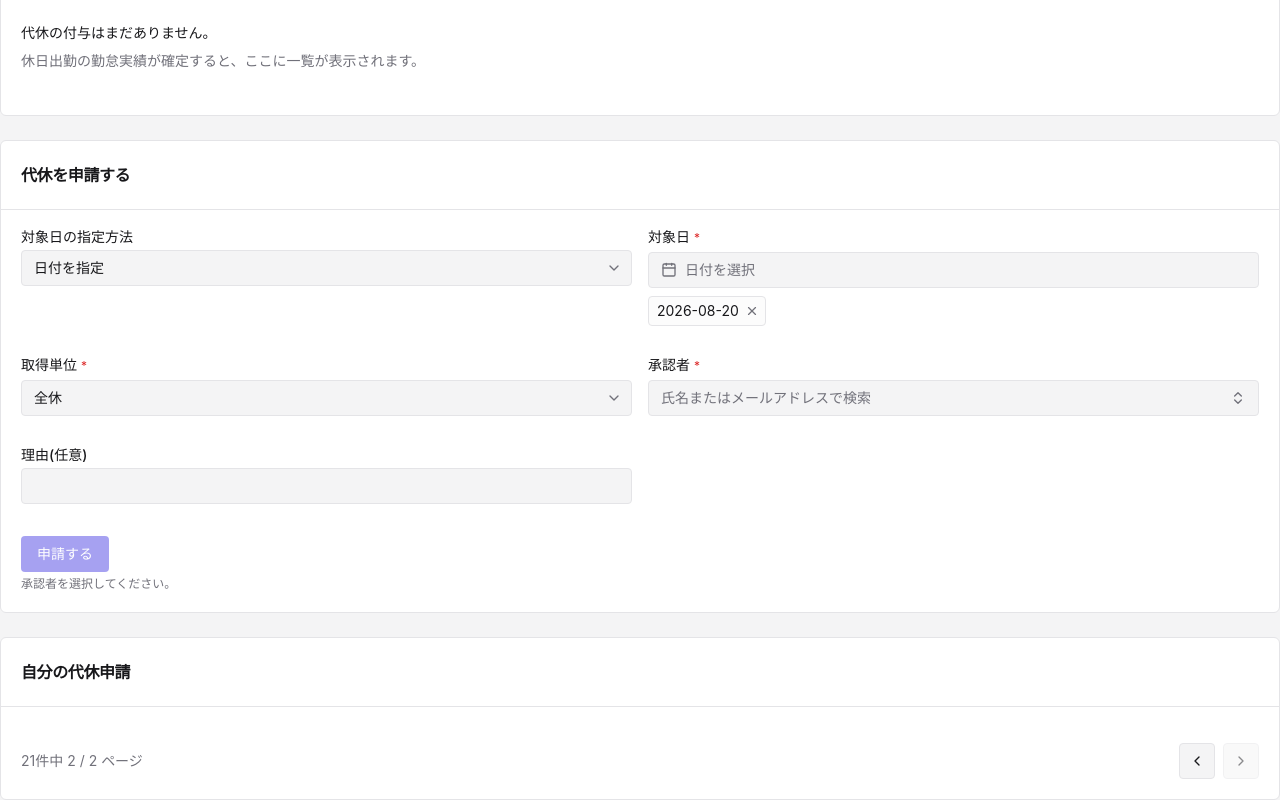
Test: MyCompensatoryLeavePage › reads the requestPage URL query param and moves between pages
(page scrolled)
Check: the text "21件中 2 / 2 ページ" is shown, box 21,751 -> 143,771
Click the button named "前のページ".
click(1197, 761)  # box 1179,743 -> 1215,779
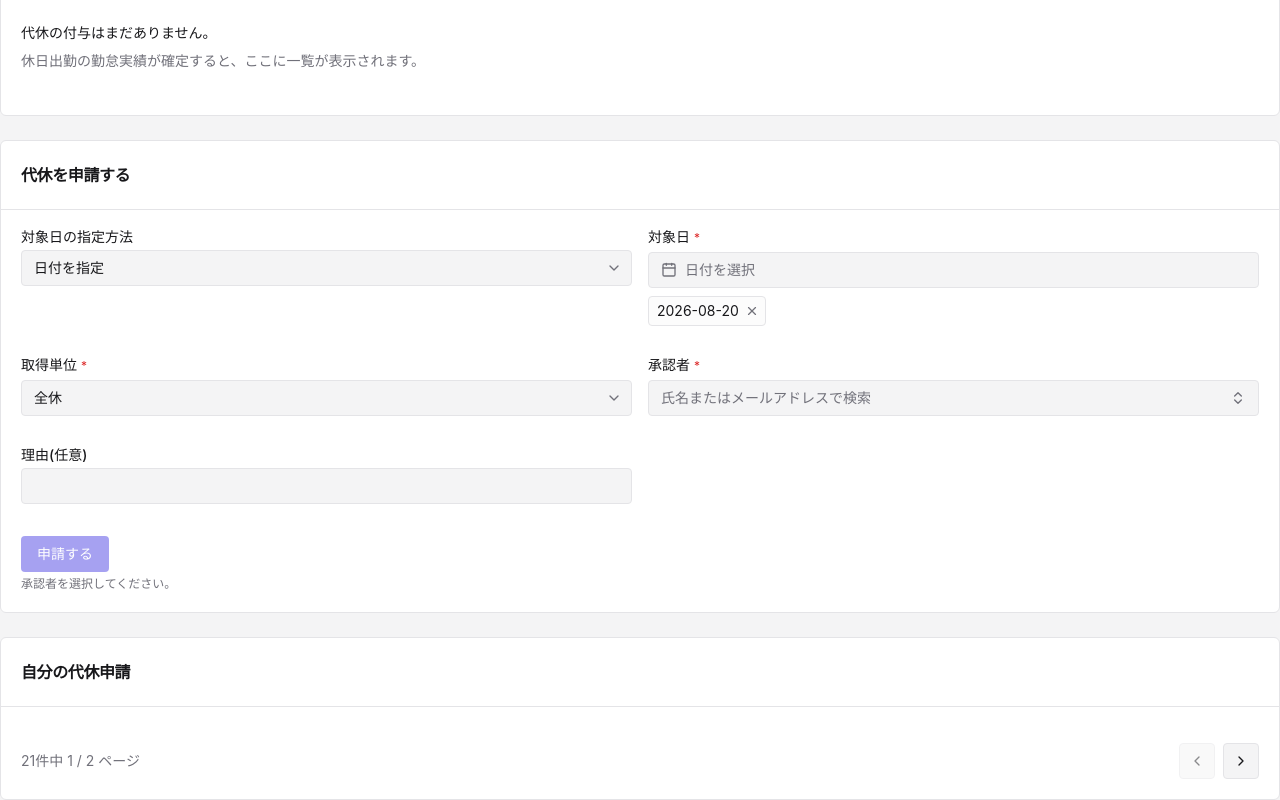
Check: the list item "2026-08-20" is shown, box 648,296 -> 766,326
Check: the text "21件中 1 / 2 ページ" is shown, box 21,751 -> 140,771
